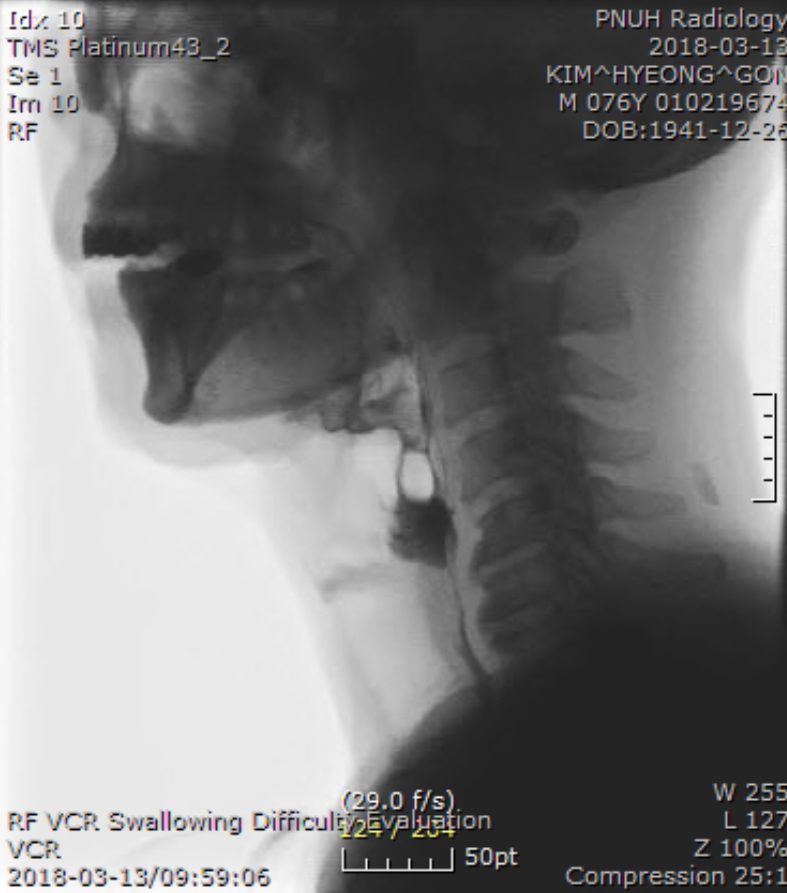dros: (411, 492, 466, 578)
food: (294, 352, 500, 595)
uros: (306, 388, 407, 447)
